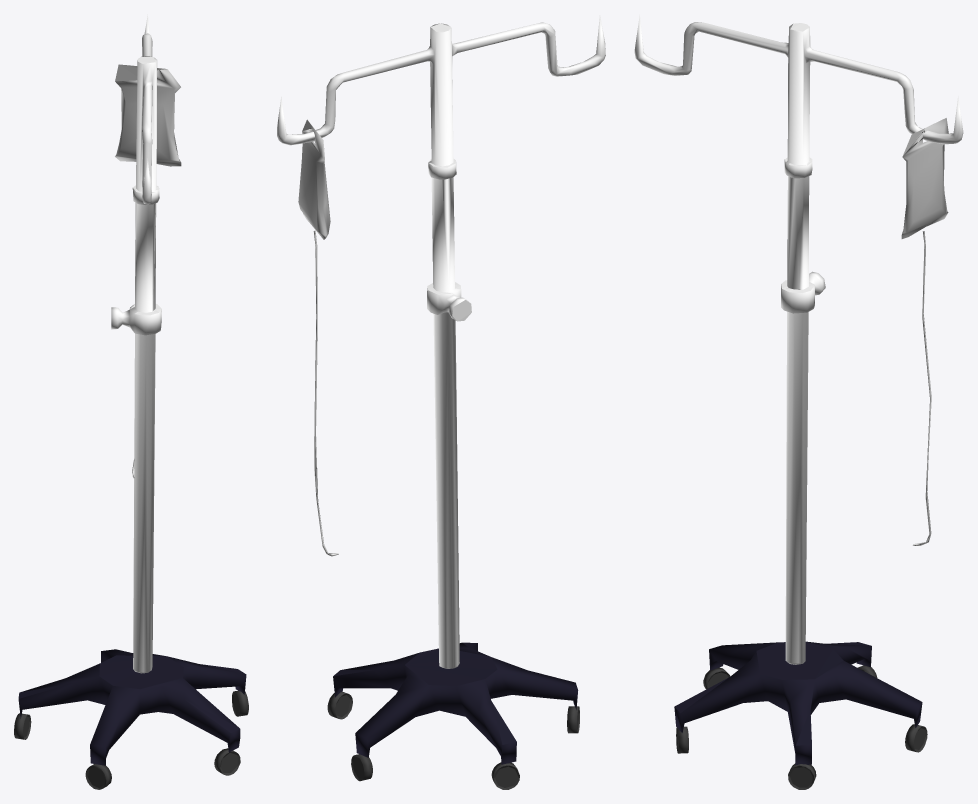
File: iv_pole.dae
3 views of the same model, side by side, from view 1: azimuth 30°, elevation 25°; view 2: azimuth 150°, elevation 25°; view 3: azimuth 270°, elevation 25° (orthographic). The views are drawn at different scales.
Visible parts, largest first — view 1: try003.001, Cylinder032.001, ivbag.001, Cylinder037.001, Cylinder036.001; view 2: try003.001, Cylinder032.001, ivbag.001, pipe.001, Cylinder033.001; view 3: try003.001, Cylinder032.001, ivbag.001, pipe.001, Cylinder035.001.
Boxes of the visible parts, <box> form: try003.001: <box>111,14,161,673</box>; Cylinder032.001: <box>18,649,246,765</box>; ivbag.001: <box>115,64,181,166</box>; Cylinder037.001: <box>214,748,240,775</box>; Cylinder036.001: <box>85,764,111,789</box>; try003.001: <box>277,15,605,668</box>; Cylinder032.001: <box>333,642,578,764</box>; ivbag.001: <box>298,119,330,239</box>; pipe.001: <box>313,230,338,556</box>; Cylinder033.001: <box>491,762,519,789</box>; try003.001: <box>634,14,963,664</box>; Cylinder032.001: <box>674,641,922,765</box>; ivbag.001: <box>901,118,948,238</box>; pipe.001: <box>913,231,931,545</box>; Cylinder035.001: <box>788,763,816,789</box>.
Size of the model in its own units: 0.414 by 0.5479 by 1.31.
